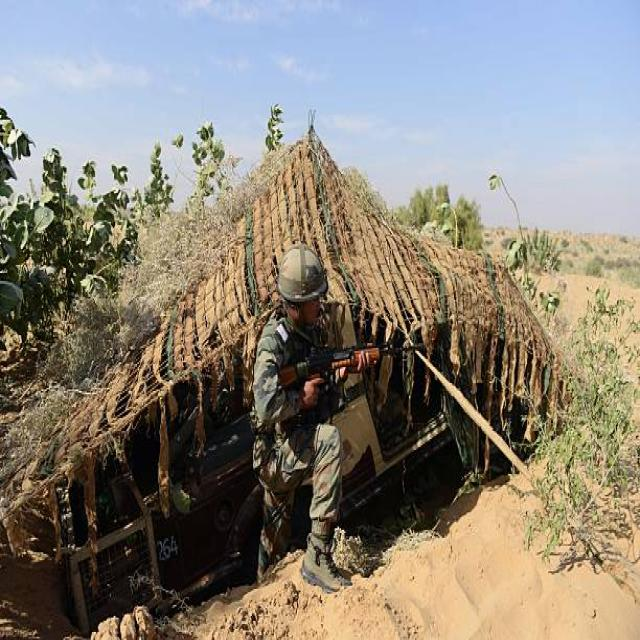soldier: (250, 243, 423, 594)
